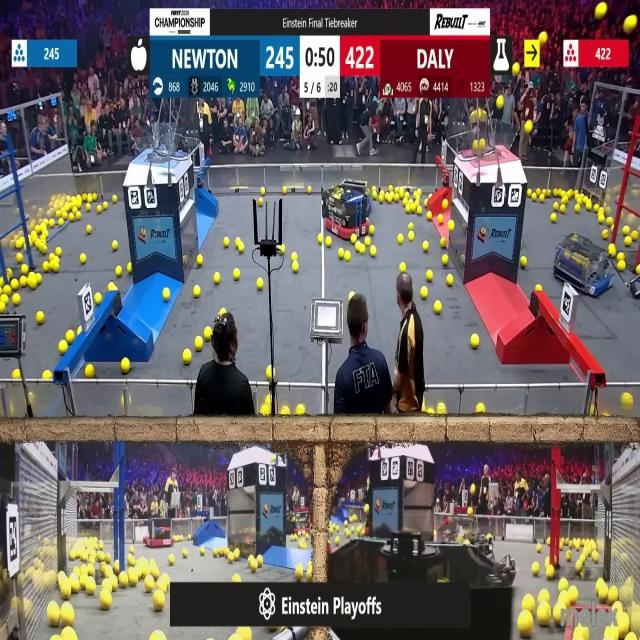ball_airborne: (625, 16, 637, 32), (596, 2, 607, 18), (496, 97, 504, 110), (525, 120, 533, 133), (514, 64, 521, 76), (478, 110, 486, 120), (479, 139, 486, 149), (472, 140, 478, 150), (469, 485, 475, 495), (467, 506, 473, 515), (471, 110, 476, 120)
ball_ground: (519, 614, 533, 638), (47, 606, 59, 628), (62, 607, 75, 627), (152, 592, 164, 612), (537, 608, 549, 628), (100, 592, 112, 610), (573, 628, 588, 640), (554, 609, 563, 627), (61, 584, 71, 600), (623, 393, 633, 408), (608, 588, 618, 603), (63, 628, 75, 640), (598, 588, 607, 604), (120, 357, 129, 372), (182, 349, 191, 364), (569, 588, 577, 604), (145, 579, 154, 593), (88, 582, 97, 596), (71, 581, 80, 595), (523, 596, 532, 609), (87, 363, 95, 377), (470, 336, 478, 350), (194, 338, 202, 352), (67, 329, 75, 343), (249, 558, 257, 572), (131, 571, 139, 585), (121, 574, 129, 588), (110, 578, 118, 592), (559, 577, 568, 589), (60, 342, 68, 355), (294, 566, 302, 579), (36, 312, 44, 325), (438, 405, 447, 416), (538, 591, 547, 602), (192, 285, 200, 297), (545, 566, 553, 578), (150, 632, 162, 640), (434, 302, 441, 315), (267, 365, 274, 378), (205, 327, 212, 340), (281, 408, 290, 418), (18, 277, 26, 288), (28, 278, 36, 289), (95, 292, 102, 304), (213, 273, 220, 285), (532, 563, 539, 575), (12, 293, 19, 305), (421, 287, 428, 299), (608, 244, 615, 256), (575, 560, 582, 572), (296, 407, 304, 417), (478, 404, 486, 414), (263, 408, 271, 418), (36, 274, 44, 284), (102, 580, 110, 590), (256, 279, 263, 290), (115, 267, 122, 278), (50, 263, 57, 274), (89, 564, 96, 575), (165, 288, 171, 300), (234, 573, 242, 582), (324, 238, 332, 247), (592, 552, 598, 564), (619, 262, 626, 272), (291, 264, 298, 274), (447, 276, 454, 286), (12, 368, 19, 378), (22, 266, 29, 276), (11, 280, 18, 290), (363, 237, 370, 247), (129, 556, 136, 566), (521, 256, 527, 267), (422, 242, 428, 253), (340, 248, 346, 259), (0, 303, 6, 314), (256, 556, 262, 567), (3, 286, 11, 294), (235, 270, 241, 280), (399, 264, 405, 274), (368, 224, 374, 234), (43, 264, 49, 274), (223, 238, 229, 248), (44, 368, 50, 378), (195, 255, 201, 265), (397, 235, 403, 245), (170, 555, 176, 565), (15, 252, 21, 262), (108, 282, 114, 292), (226, 554, 232, 564), (632, 232, 638, 242), (317, 235, 323, 245), (598, 214, 604, 224), (235, 550, 241, 560), (114, 560, 119, 572), (152, 567, 158, 577), (379, 192, 385, 202), (384, 194, 390, 204), (587, 202, 593, 212), (40, 244, 46, 254), (1, 294, 8, 302), (619, 252, 626, 260), (427, 271, 432, 282), (369, 247, 375, 256), (409, 233, 415, 242), (442, 239, 448, 248), (292, 252, 298, 261), (88, 224, 94, 233), (358, 245, 364, 254), (238, 244, 244, 253), (363, 503, 369, 512), (279, 245, 285, 254), (182, 255, 188, 264), (566, 553, 572, 562), (48, 218, 54, 227), (590, 409, 596, 418), (444, 254, 449, 264), (80, 253, 85, 263), (449, 220, 454, 230), (112, 241, 117, 251), (552, 213, 557, 223), (626, 238, 632, 246), (560, 206, 566, 214), (345, 252, 351, 260), (554, 203, 560, 211), (535, 284, 541, 292), (602, 232, 608, 240), (182, 550, 188, 558), (409, 222, 415, 230), (624, 226, 630, 234), (439, 215, 445, 223), (282, 186, 288, 194), (68, 213, 74, 221), (606, 217, 612, 225), (75, 212, 81, 220), (393, 192, 399, 200), (562, 197, 568, 205), (259, 187, 265, 195), (403, 206, 409, 214), (579, 554, 585, 562), (298, 540, 304, 548), (444, 201, 449, 210), (574, 205, 579, 214), (539, 193, 544, 202), (76, 326, 81, 335), (48, 253, 54, 260), (87, 205, 93, 212), (401, 200, 407, 207), (212, 551, 218, 558), (57, 248, 62, 256), (417, 207, 422, 215), (427, 212, 432, 220), (636, 266, 640, 276), (98, 206, 103, 214), (532, 192, 537, 200), (536, 542, 541, 550), (112, 194, 117, 202), (257, 199, 262, 207), (545, 537, 550, 545), (544, 558, 549, 566), (371, 190, 376, 198), (346, 529, 351, 537), (422, 408, 427, 416), (130, 544, 135, 552), (89, 192, 94, 200), (594, 205, 599, 213), (527, 187, 532, 195), (129, 265, 133, 274), (0, 277, 4, 286), (351, 236, 356, 243), (60, 218, 65, 225), (428, 409, 433, 416), (352, 516, 357, 523), (554, 188, 559, 195), (201, 546, 205, 554), (560, 542, 564, 550), (337, 536, 341, 544), (51, 635, 57, 640), (104, 203, 108, 210), (309, 186, 313, 193), (424, 201, 428, 208), (535, 188, 539, 195), (345, 521, 349, 527), (188, 534, 192, 540)
goal: (466, 122, 522, 160), (129, 129, 188, 160)
robot_blue: (555, 236, 615, 300), (632, 250, 640, 298)
robot_red: (323, 184, 372, 240), (146, 520, 174, 546), (284, 513, 308, 536)
